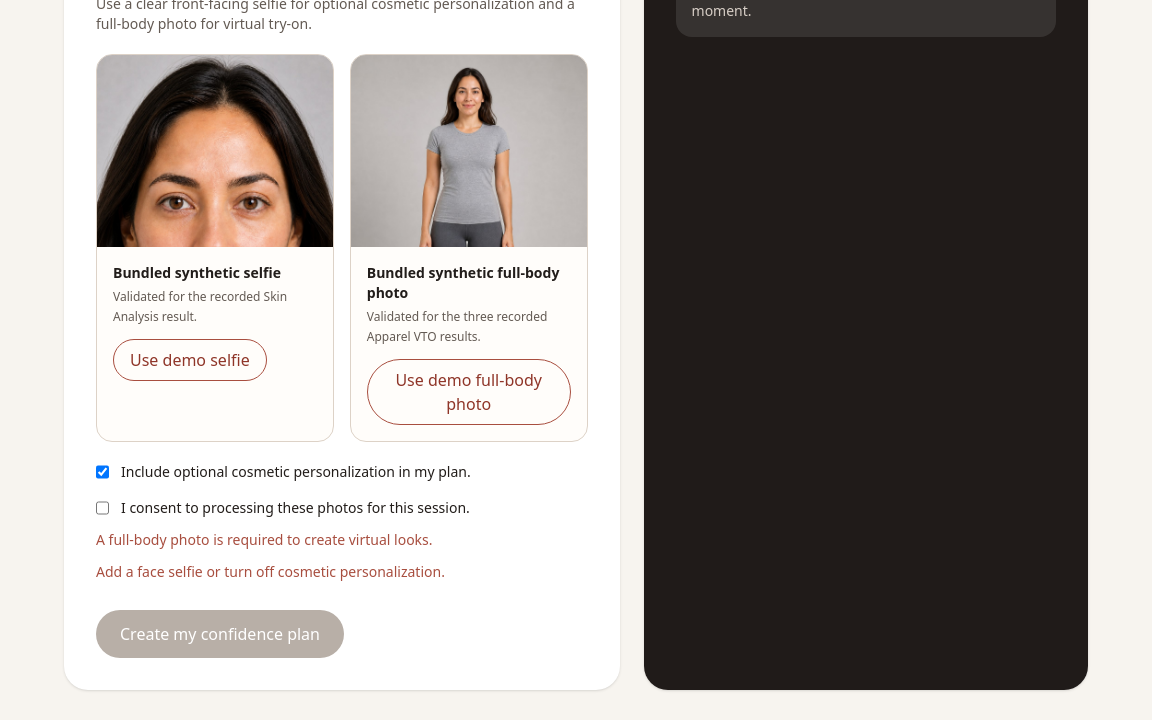
Scenario: MirrorMomentApp › allows the bundled replay photos to satisfy the consent gate
(page scrolled)
Click the button "Use demo selfie". click: (190, 360)
box: [113, 339, 267, 381]
(page scrolled)
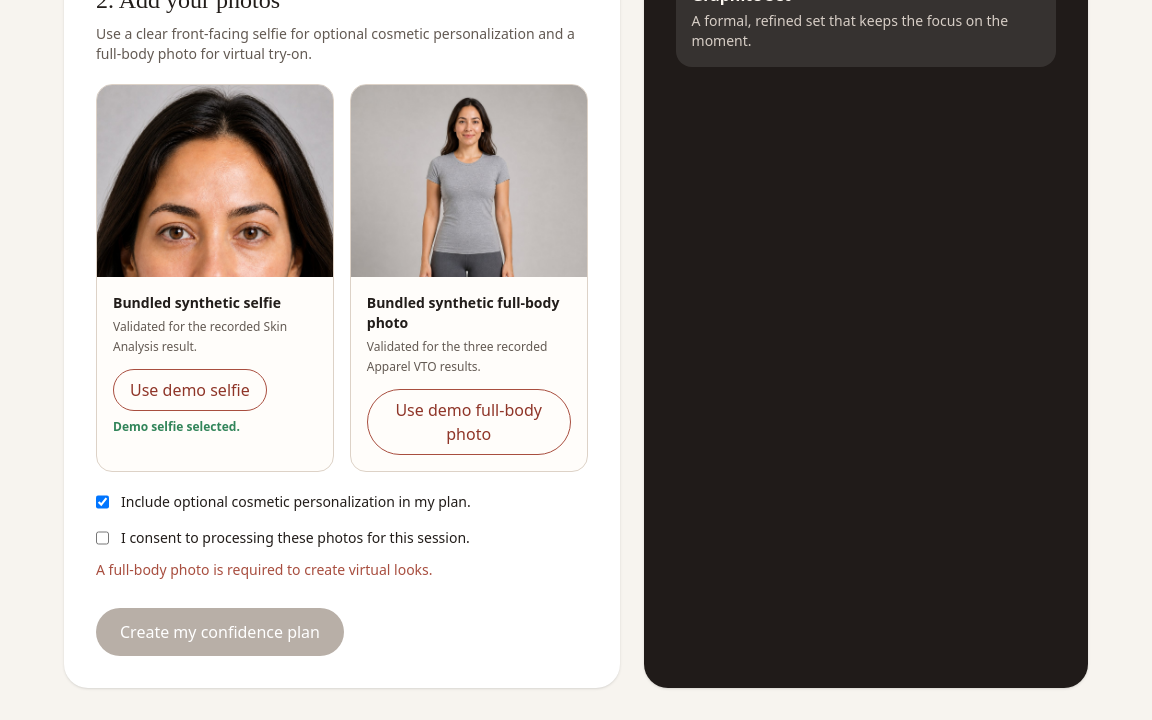
Click the button "Use demo full-body photo". click: (469, 422)
box: [367, 389, 571, 455]
(page scrolled)
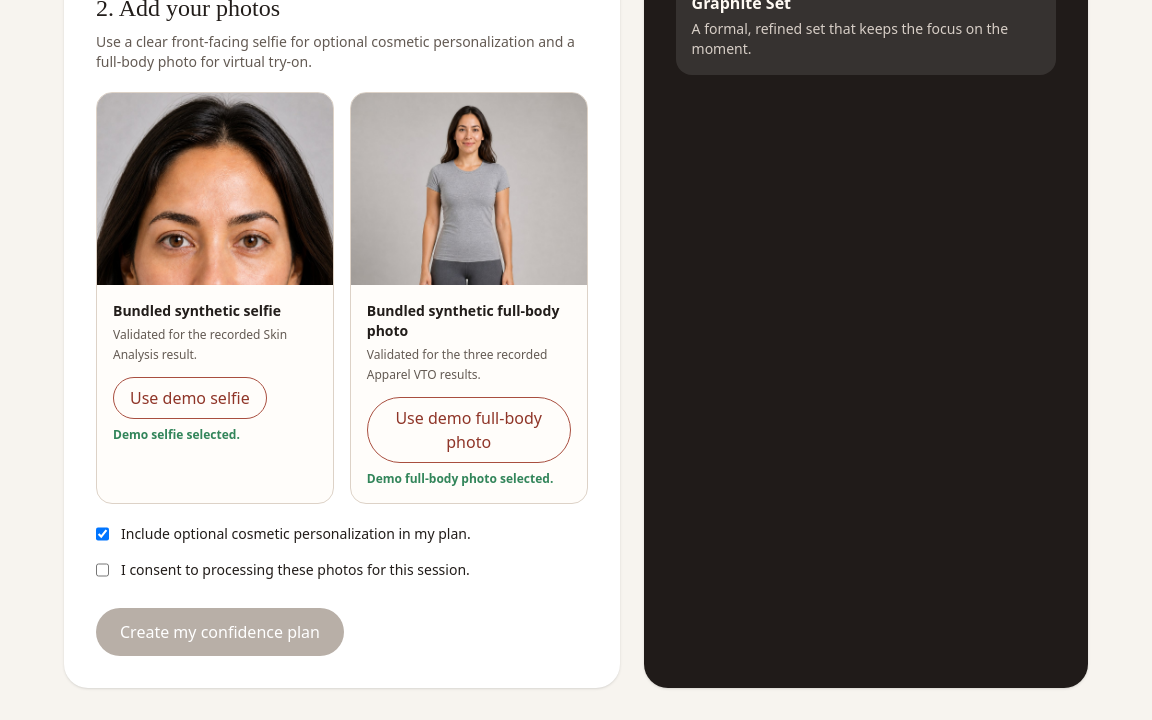
Expected: the button "Create my confidence plan" is disabled, [96, 608, 344, 656]
Click the checkbox labelled "I consent to processing these photos for this session.". click: (102, 570)
box: [96, 560, 109, 580]
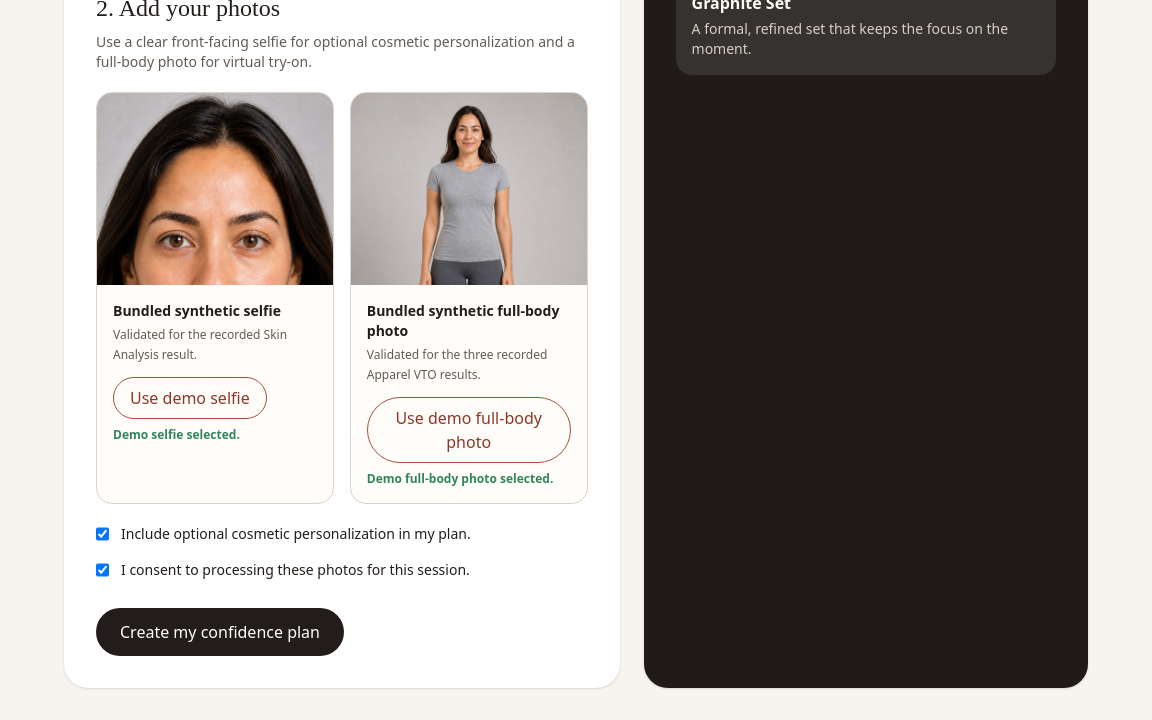
Expected: the button "Create my confidence plan" is enabled, [96, 608, 344, 656]
